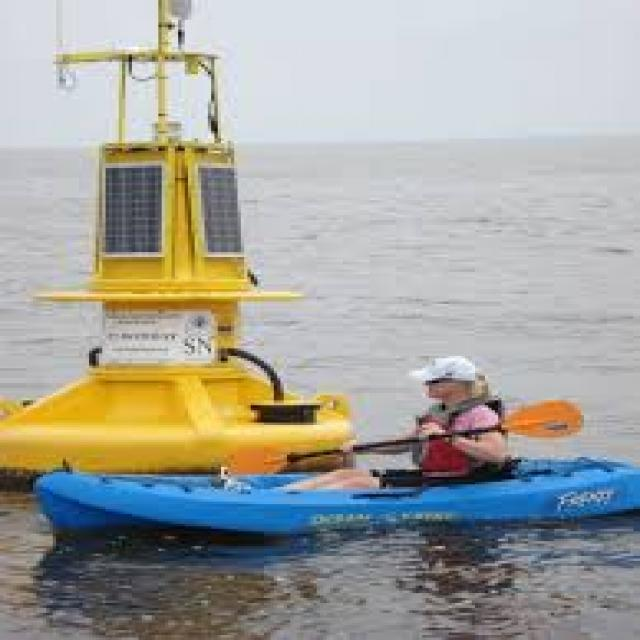buoy: (3, 1, 344, 468)
